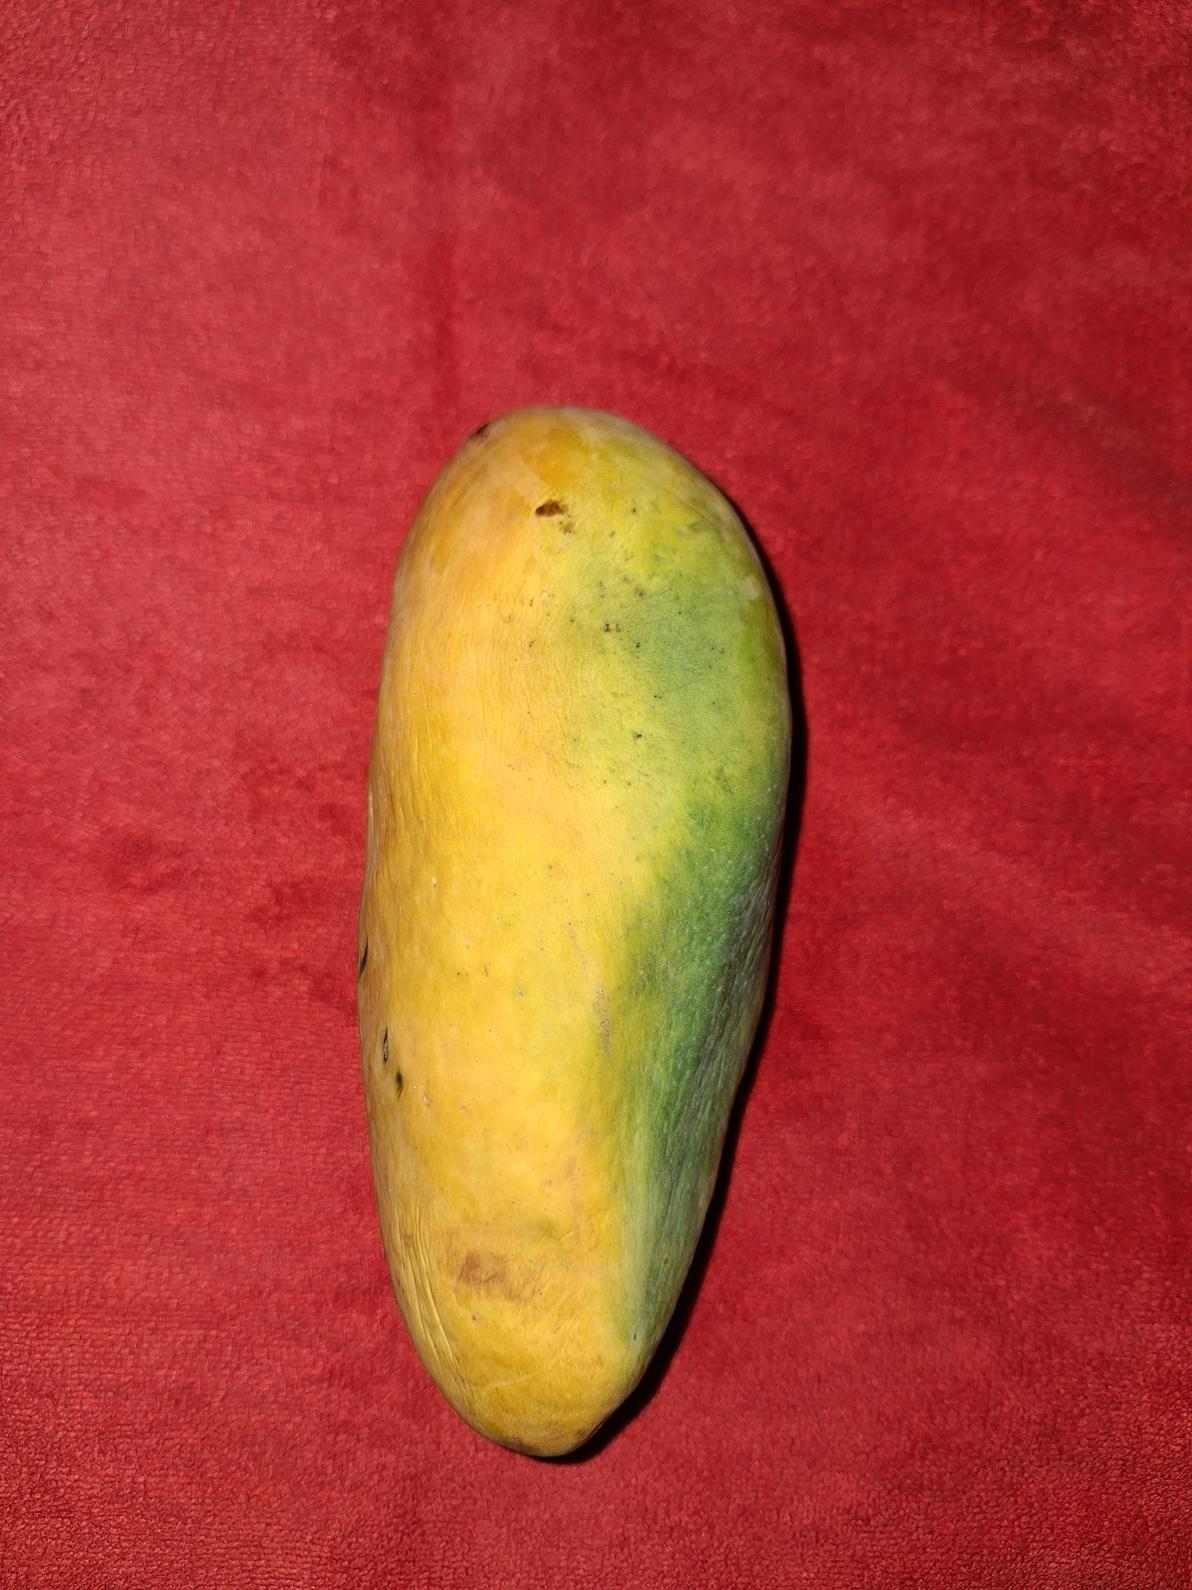mango: (353, 402, 794, 1459)
